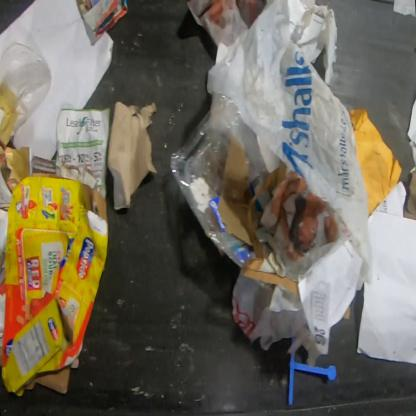cardboard: (0, 172, 109, 397), (219, 141, 299, 293), (106, 101, 158, 210), (24, 364, 72, 394)
rigid_plastic: (169, 95, 267, 272), (289, 351, 337, 405)
soft_plastic: (206, 0, 374, 291), (231, 269, 308, 351), (0, 42, 51, 134)
